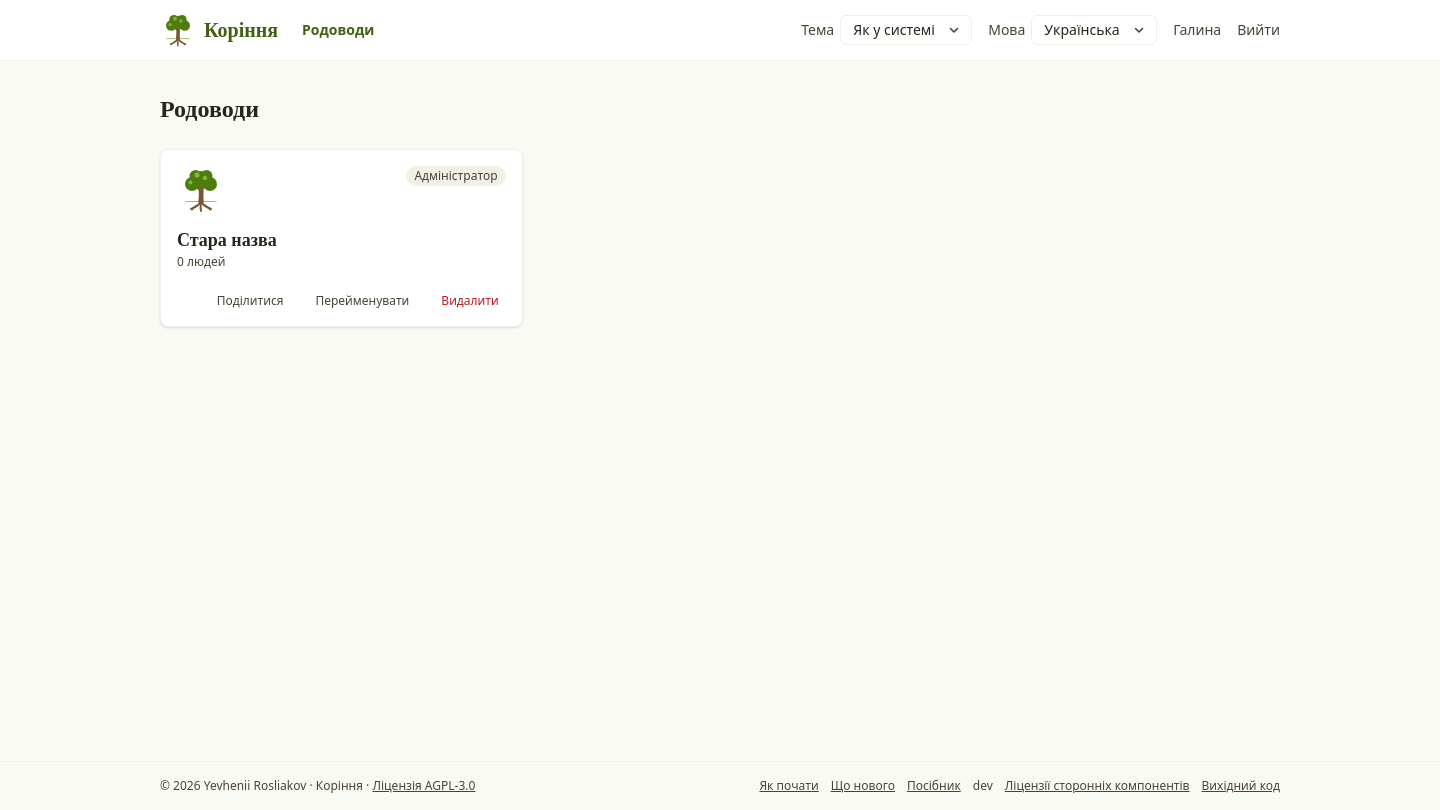
it: admin trees › renames a tree from its card
Click the button with aria-label "Перейменувати родовід «Стара назва»".
click(362, 301)  # box [303, 287, 421, 315]
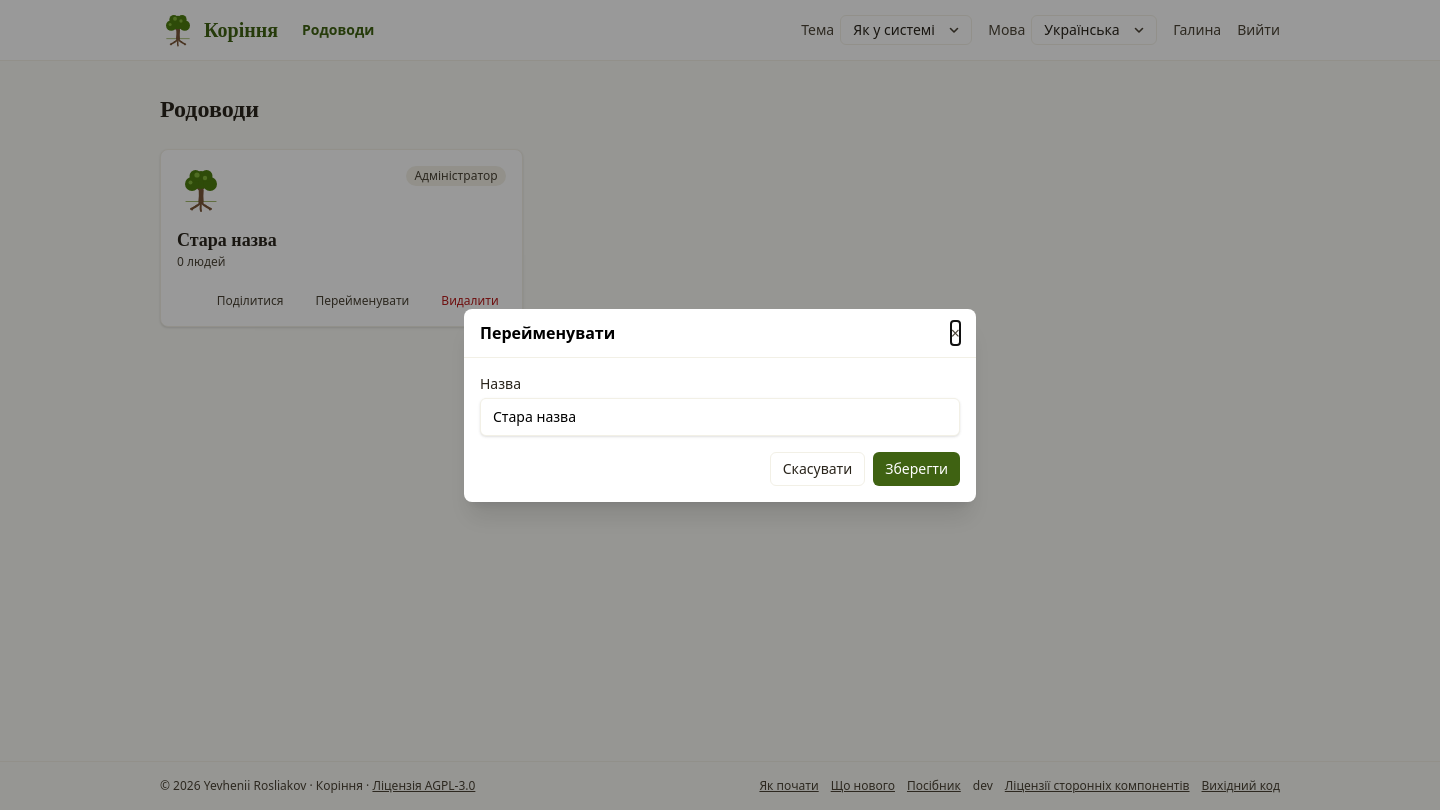
Replace the text in the field labelled "Назва" with "Нова назва" at (720, 416), box [480, 398, 960, 436]
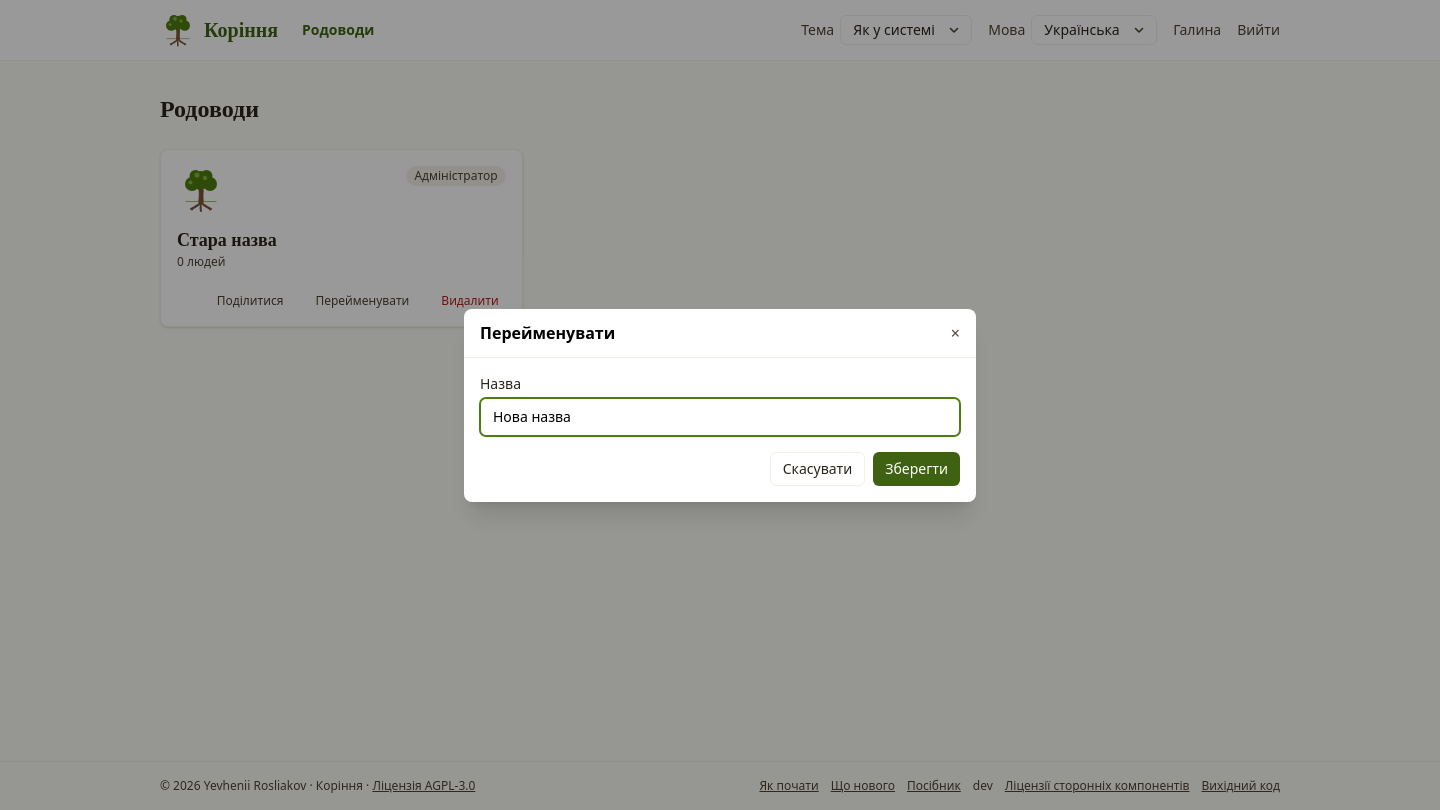
Click the button "Зберегти".
click(917, 468)  # box [873, 452, 960, 486]
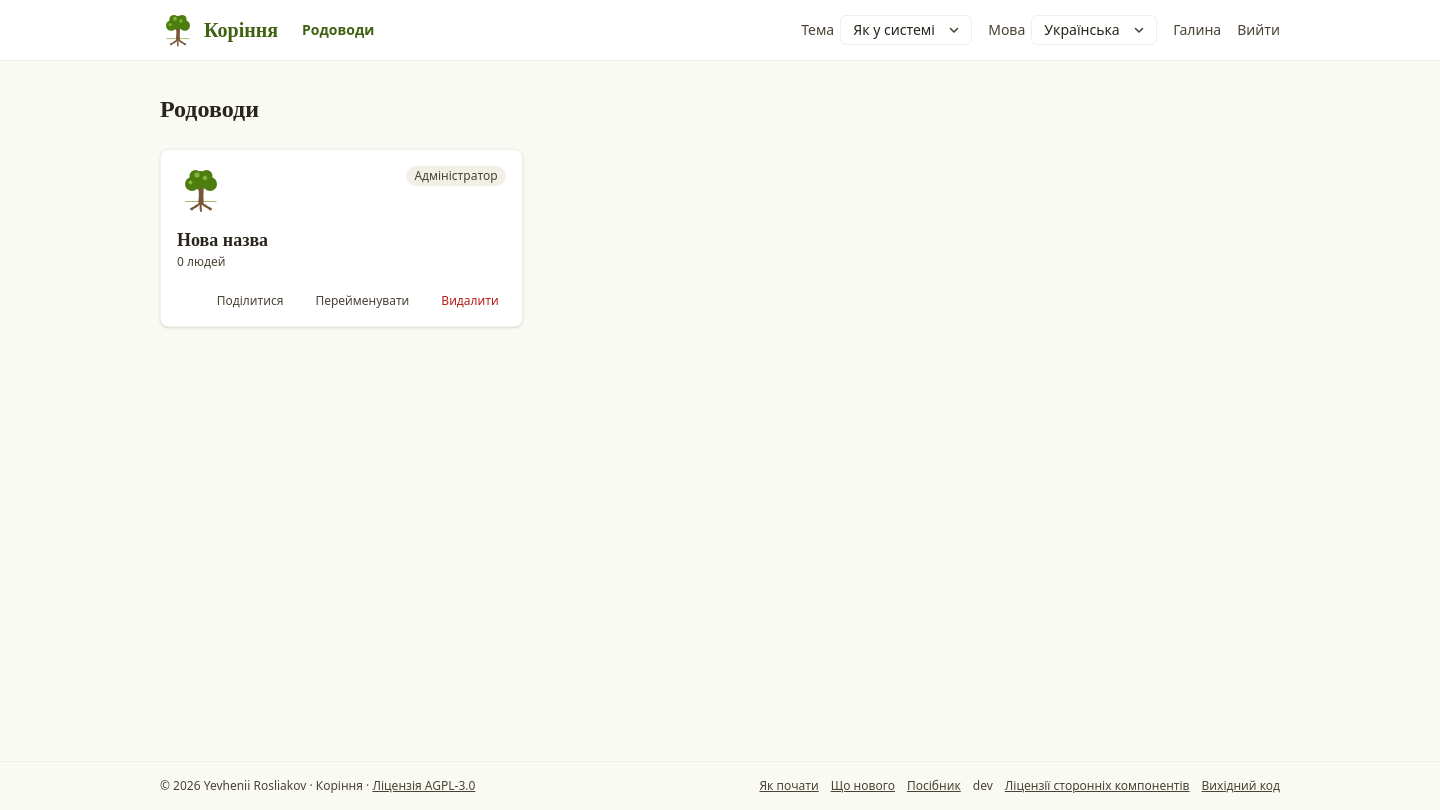
Result: the link "Адміністратор Нова назва 0 людей" is shown at [160, 149, 523, 327]
